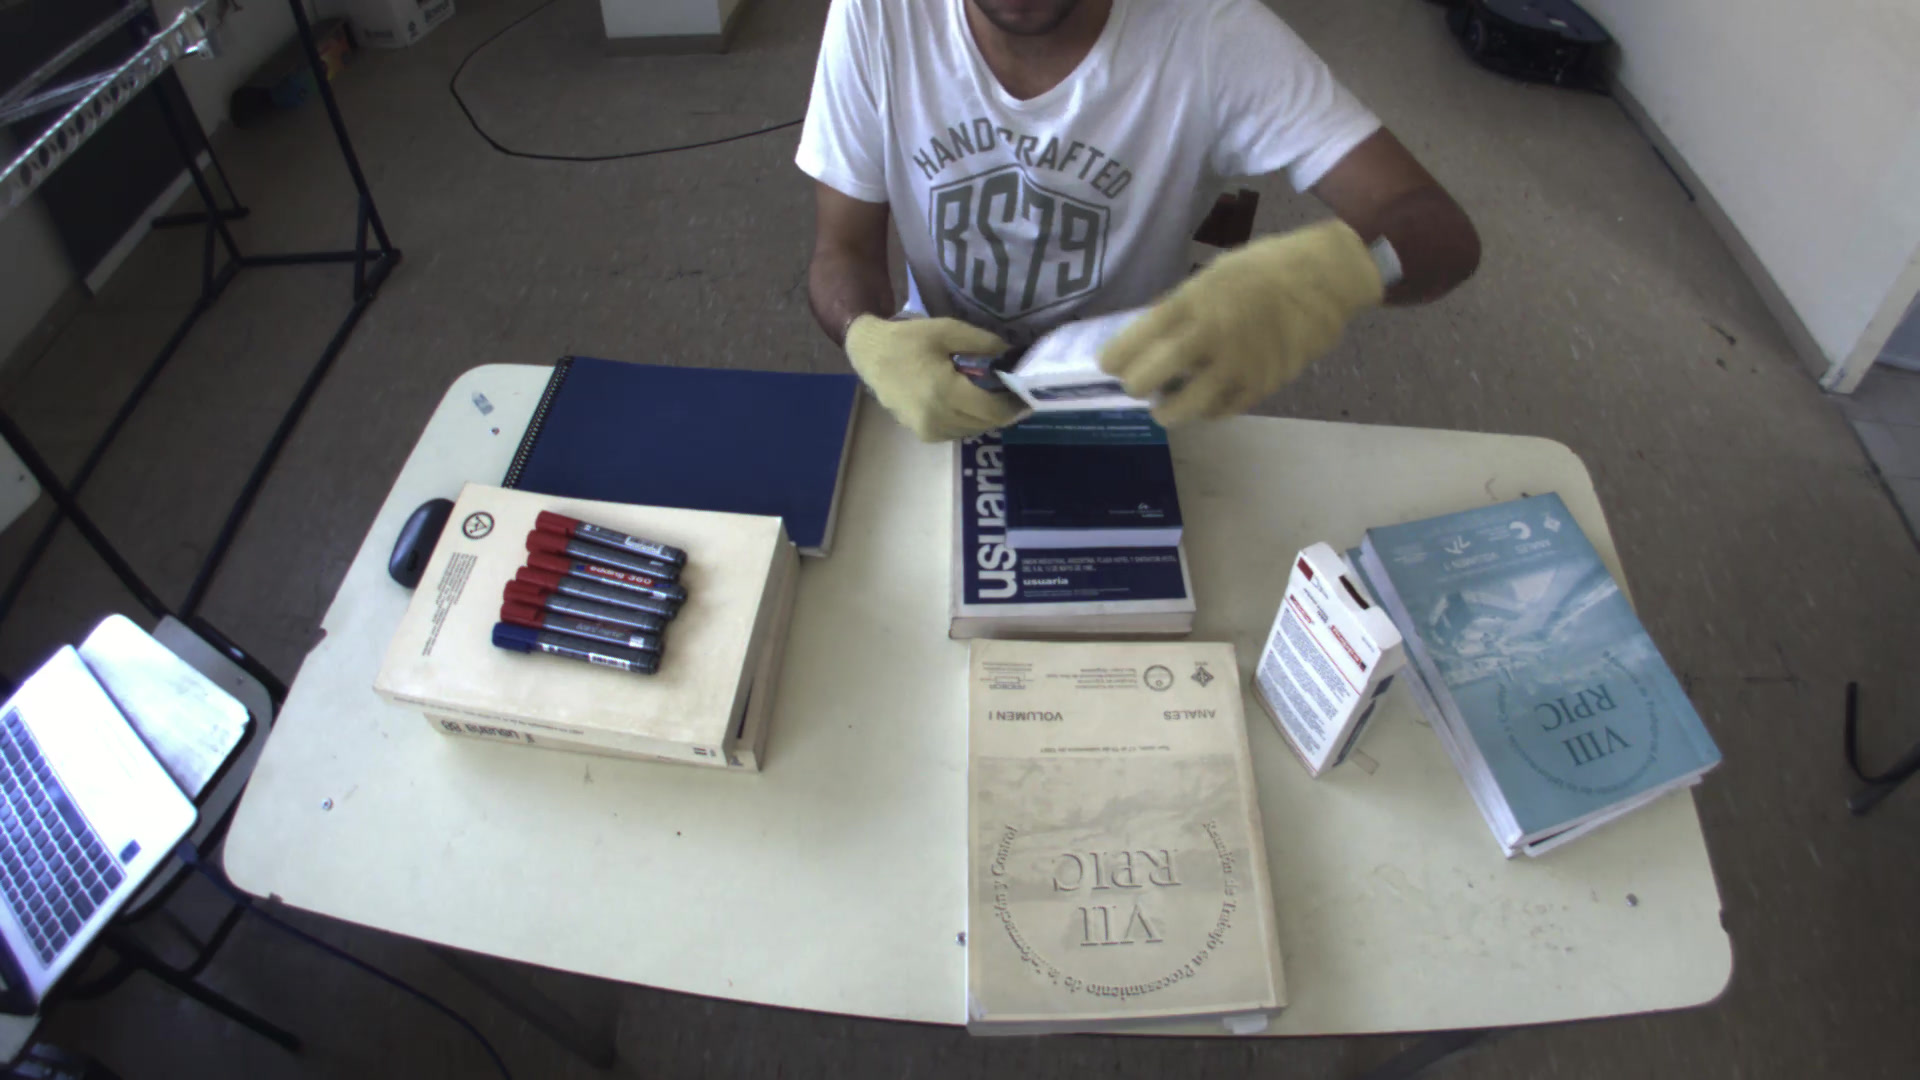hand: (1093, 211, 1393, 435), (833, 302, 1044, 448)
